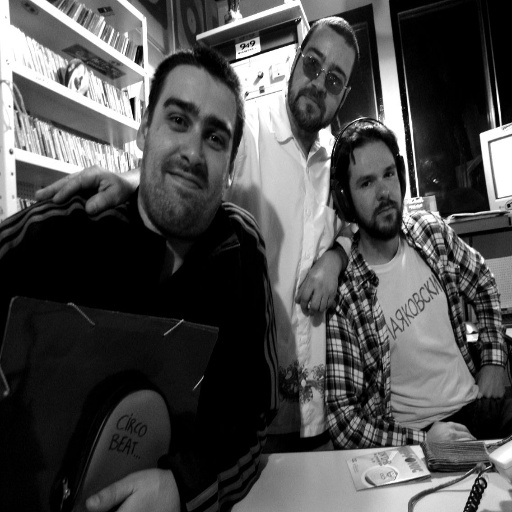hand: (21, 166, 122, 239), (83, 469, 181, 511), (293, 246, 339, 318), (428, 419, 476, 442), (475, 364, 505, 400)
